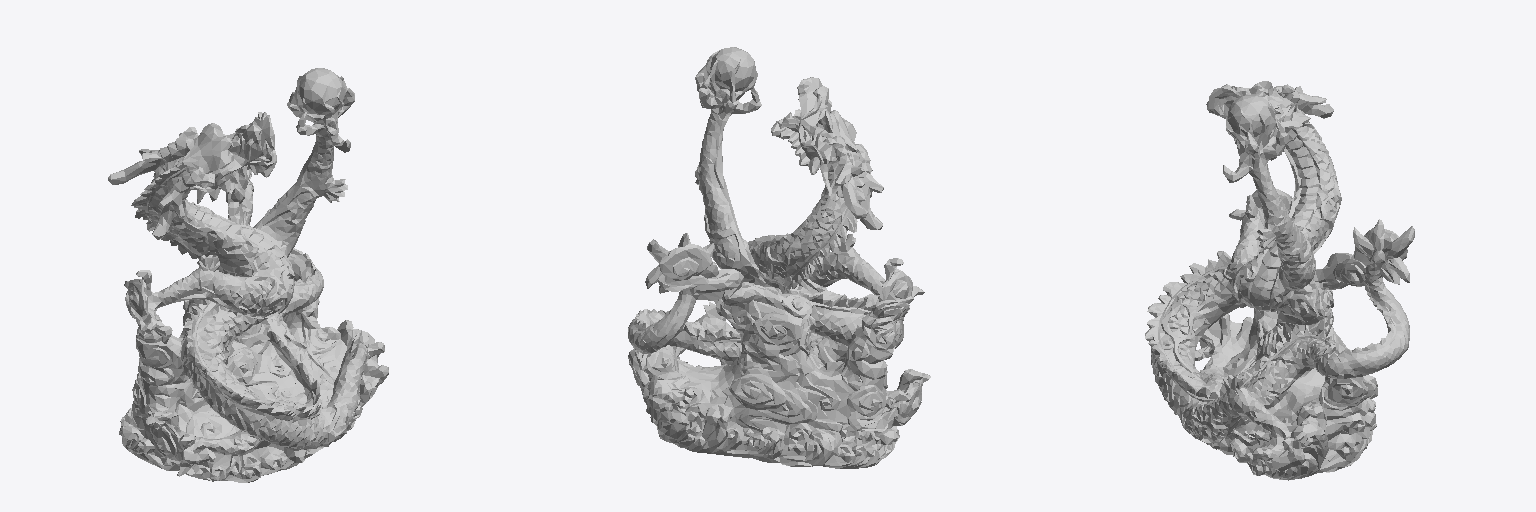
The model's file is dragon.obj.
3 views of the same model, side by side, from view 1: azimuth 30°, elevation 25°; view 2: azimuth 150°, elevation 25°; view 3: azimuth 270°, elevation 25° (orthographic).
Parts seen in each view (by area): view 1: Dragon_With_Pearl; view 2: Dragon_With_Pearl; view 3: Dragon_With_Pearl.
Boxes of the visible parts, box(x1,y1,x2,y2) form: Dragon_With_Pearl: box(108, 68, 388, 482); Dragon_With_Pearl: box(628, 47, 930, 468); Dragon_With_Pearl: box(1145, 81, 1414, 480).
Size of the model in its own units: 7.01 by 9.24 by 6.19.